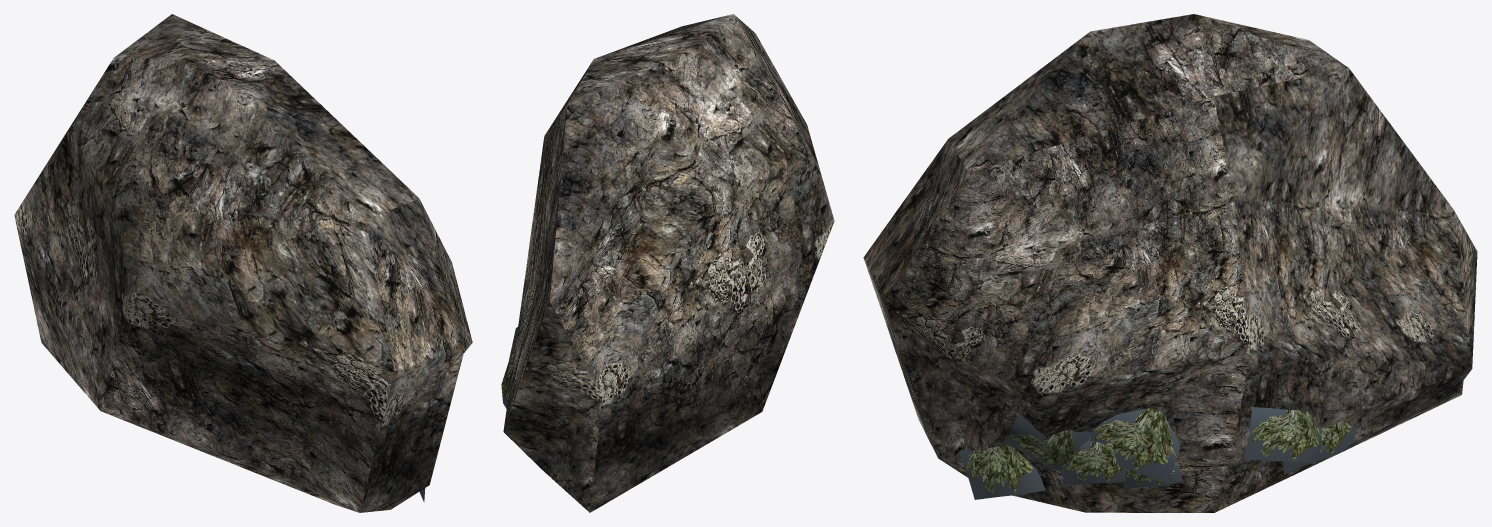
The model's file is pir_m_prp_dvj_rock_d.fbx.
3 views of the same model, side by side, from view 1: azimuth 30°, elevation 25°; view 2: azimuth 150°, elevation 25°; view 3: azimuth 270°, elevation 25° (orthographic). The views are drawn at different scales.
Visible parts, largest first — view 1: rock_5; view 2: rock_5, seaweed16; view 3: rock_5, seaweed9, seaweed16, seaweed12, seaweed1, seaweed5, seaweed19, seaweed8.
Boxes of the visible parts, box(x1,y1,x2,y2) form: rock_5: box(14, 14, 472, 512); rock_5: box(503, 14, 834, 512); seaweed16: box(501, 327, 517, 408); rock_5: box(863, 14, 1477, 512); seaweed9: box(1089, 408, 1179, 482); seaweed16: box(1243, 407, 1322, 463); seaweed12: box(959, 445, 1045, 499); seaweed1: box(1003, 413, 1092, 469); seaweed5: box(1061, 435, 1125, 484); seaweed19: box(1283, 422, 1355, 474); seaweed8: box(1124, 462, 1182, 489).
Size of the model in its own units: 2388 by 3153 by 4162.
2 materials, 2 textured.
